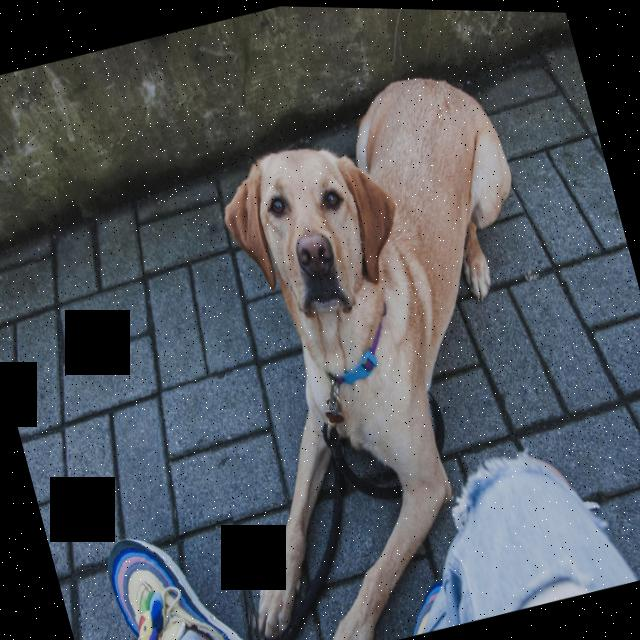shoe: (100, 507, 273, 640)
